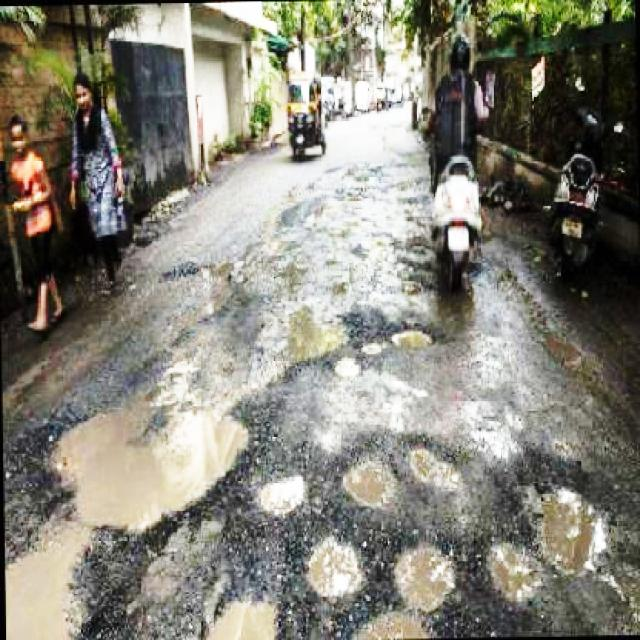pothole: (37, 397, 277, 538), (0, 518, 129, 640), (521, 474, 614, 577), (271, 303, 352, 371), (392, 540, 463, 617), (192, 589, 291, 640), (483, 536, 548, 606), (299, 536, 366, 602), (402, 438, 468, 497), (335, 454, 400, 512), (494, 270, 546, 332), (254, 466, 309, 520), (348, 607, 437, 640), (466, 414, 523, 464), (534, 326, 581, 379), (270, 260, 322, 297), (391, 326, 435, 356), (546, 429, 579, 462), (397, 274, 426, 300), (328, 278, 355, 302), (335, 357, 363, 380), (358, 342, 382, 358)
